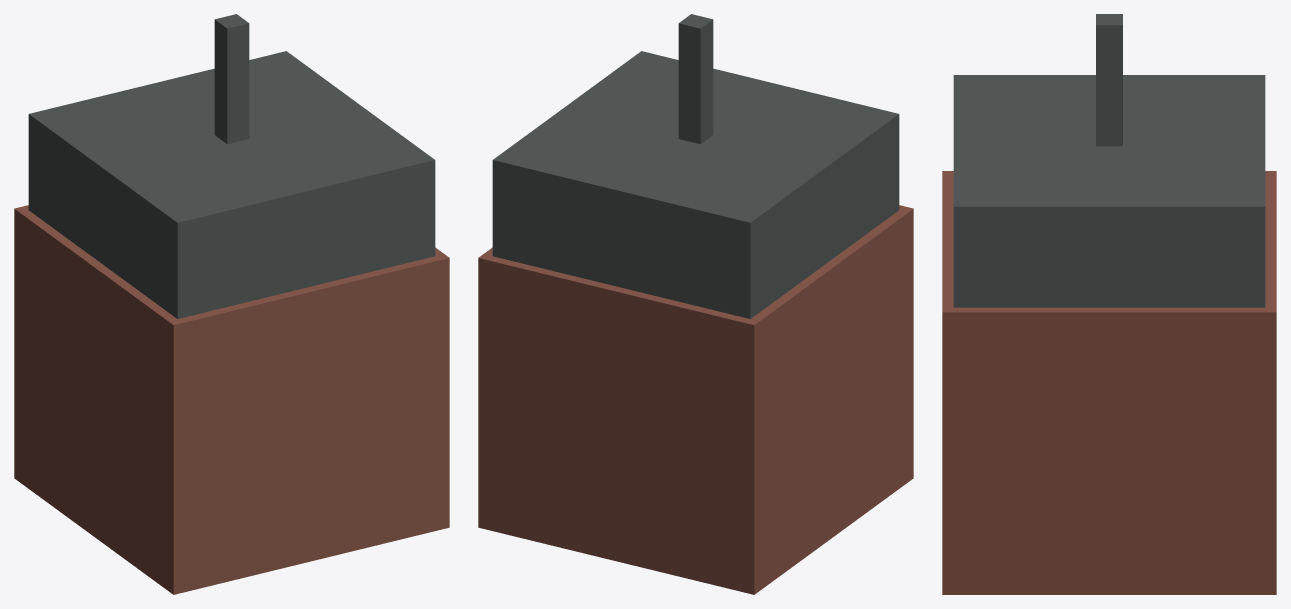
File: ENV_F_GondolaCabin.fbx
3 views of the same model, side by side, from view 1: azimuth 30°, elevation 25°; view 2: azimuth 150°, elevation 25°; view 3: azimuth 270°, elevation 25° (orthographic). The views are drawn at different scales.
Parts seen in each view (by area): view 1: PH03_ENV_F_GondolaCabin; view 2: PH03_ENV_F_GondolaCabin; view 3: PH03_ENV_F_GondolaCabin.
Part boxes in pixels (bbox=[...]): PH03_ENV_F_GondolaCabin: bbox=[14, 14, 449, 594]; PH03_ENV_F_GondolaCabin: bbox=[478, 14, 913, 594]; PH03_ENV_F_GondolaCabin: bbox=[942, 14, 1276, 594].
Bounding box in the file's own units: 150 × 250 × 150.
